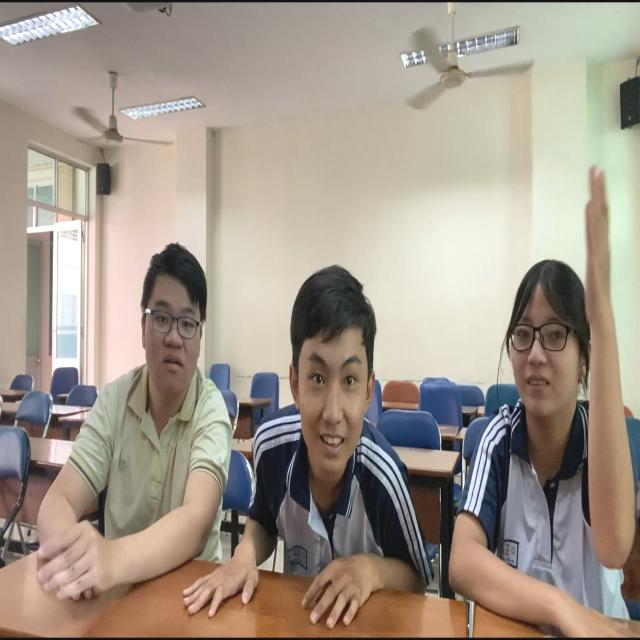raise_hand: (439, 172, 640, 640)
